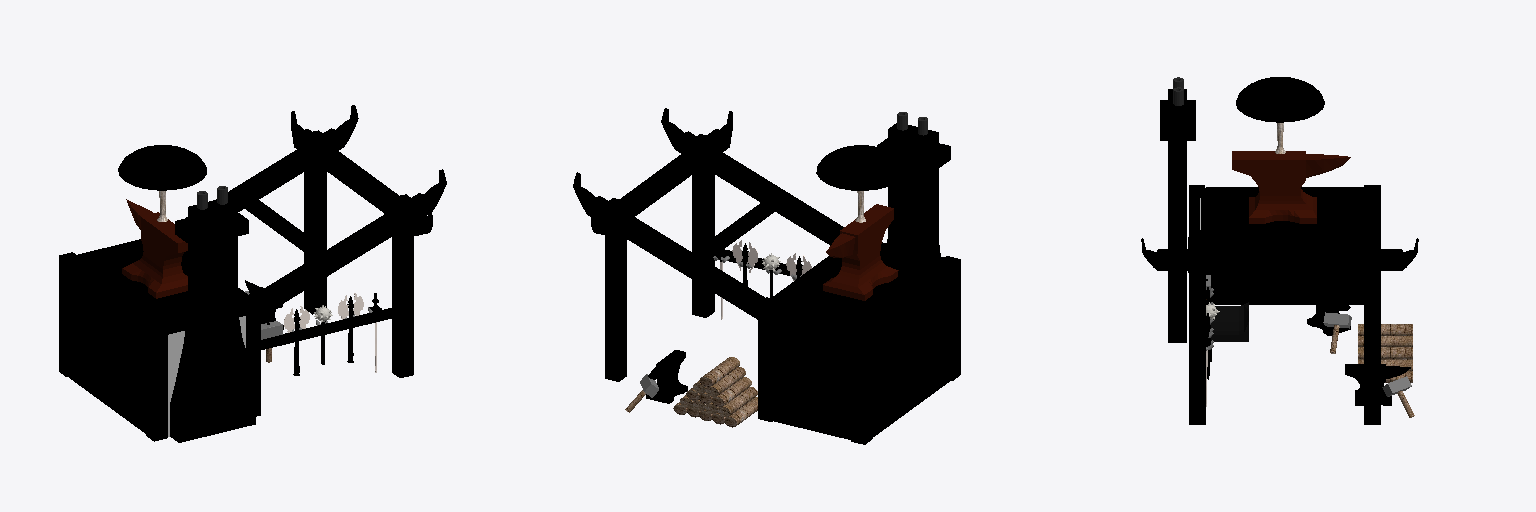
3 renders of one model, left to right at view 1: azimuth 30°, elevation 25°; view 2: azimuth 150°, elevation 25°; view 3: azimuth 270°, elevation 25°, orthographic.
Parts seen in each view (by area): view 1: pCone4 polySurface69, pCone4 polySurface65, pCone4 polySurface17, polySurface9, pCone4 polySurface15, pCone4 polySurface83, pCone4 polySurface66, polySurface10 pCone4, pCone4 polySurface14, pCone4 polySurface16, pCone4 polySurface23, pCone4 polySurface22 (+7 smaller); view 2: pCone4 polySurface60, pCone4 polySurface65, pCone4 polySurface69, pCone4 polySurface16, pCone4 polySurface66, polySurface9, pCone4 polySurface17, pCone4 polySurface14, pCone4 polySurface83, pCone4 polySurface15, pCone4 polySurface13, pCone4 polySurface12 (+10 smaller); view 3: polySurface9, pCone4 polySurface67, pCone4 polySurface66, pCone4 polySurface69, pCone4 polySurface83, pCone4 polySurface15, pCone4 polySurface14, pCone4 polySurface23, pCone4 polySurface22, pCone4 polySurface19, pCone4 polySurface74, pCone4 polySurface70 (+3 smaller).
Boxes of the visible parts, box(x1,y1,x2,y2) form: pCone4 polySurface69: box(170, 197, 255, 442); pCone4 polySurface65: box(68, 275, 145, 433); pCone4 polySurface17: box(254, 169, 446, 317); polySurface9: box(122, 199, 187, 298); pCone4 polySurface15: box(392, 194, 413, 377); pCone4 polySurface83: box(118, 145, 206, 189); pCone4 polySurface66: box(78, 245, 240, 319); polySurface10 pCone4: box(146, 316, 167, 441); pCone4 polySurface14: box(304, 130, 326, 314); pCone4 polySurface16: box(186, 105, 358, 217); pCone4 polySurface23: box(355, 173, 432, 235); pCone4 polySurface22: box(291, 111, 367, 191); pCone4 polySurface60: box(773, 312, 850, 439); pCone4 polySurface65: box(873, 278, 951, 436); pCone4 polySurface69: box(887, 123, 940, 256); pCone4 polySurface16: box(573, 172, 764, 319); pCone4 polySurface66: box(780, 249, 940, 321); polySurface9: box(823, 204, 898, 300); pCone4 polySurface17: box(661, 108, 843, 245); pCone4 polySurface14: box(605, 198, 626, 381); pCone4 polySurface83: box(816, 145, 905, 190); pCone4 polySurface15: box(692, 134, 714, 317); pCone4 polySurface13: box(851, 320, 872, 444); pCone4 polySurface12: box(758, 297, 779, 421); polySurface9: box(1232, 151, 1350, 223); pCone4 polySurface67: box(1206, 271, 1363, 304); pCone4 polySurface66: box(1201, 188, 1366, 234); pCone4 polySurface69: box(1168, 89, 1186, 342); pCone4 polySurface83: box(1236, 77, 1324, 121); pCone4 polySurface15: box(1189, 243, 1205, 424); pCone4 polySurface14: box(1364, 243, 1380, 424); pCone4 polySurface23: box(1141, 238, 1279, 270); pCone4 polySurface22: box(1280, 238, 1418, 270); pCone4 polySurface19: box(1206, 233, 1363, 245); pCone4 polySurface74: box(1211, 302, 1248, 341); pCone4 polySurface70: box(1160, 100, 1195, 140).
Size of the model in its own units: 14.49 by 11.88 by 11.8.
29 materials, 2 textured.